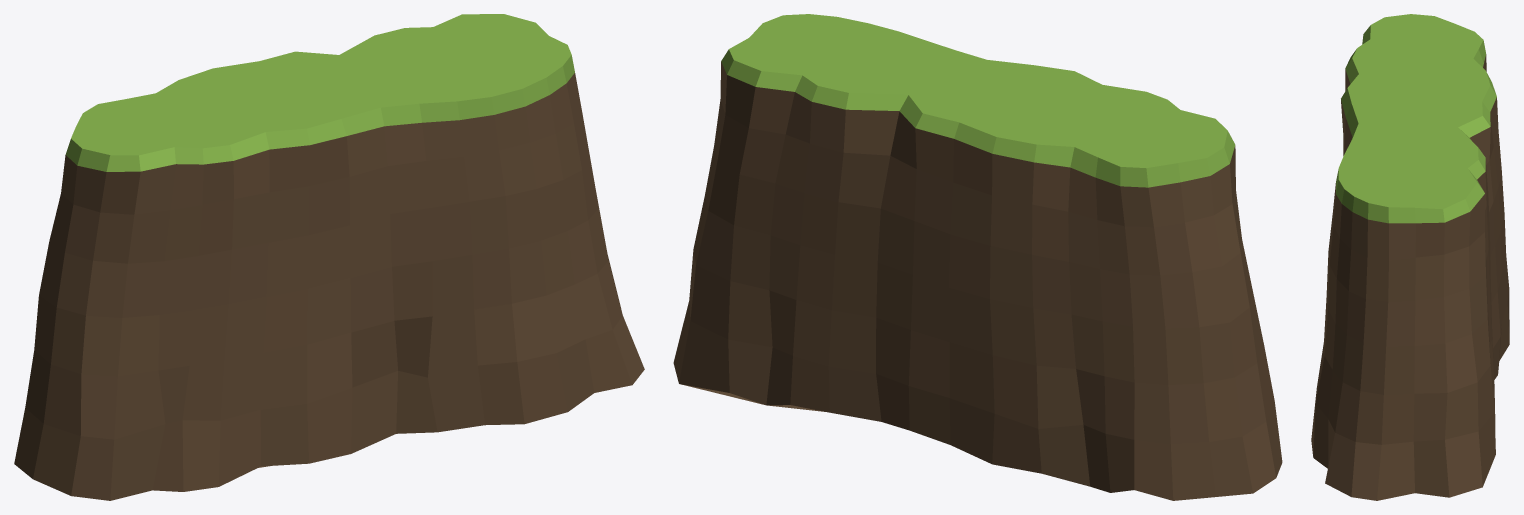
The model's file is Cliff.fbx.
The picture shows the model from 3 angles, left to right: view 1: azimuth 30°, elevation 25°; view 2: azimuth 150°, elevation 25°; view 3: azimuth 270°, elevation 25°; orthographic projection. The views are drawn at different scales.
Visible parts, largest first — view 1: Plane; view 2: Plane; view 3: Plane.
Boxes of the visible parts, x1=… form: Plane: x1=14, y1=14, x2=644, y2=500; Plane: x1=673, y1=14, x2=1282, y2=500; Plane: x1=1311, y1=14, x2=1509, y2=500.
Bounding box in the file's own units: 184 × 99.04 × 65.15.
